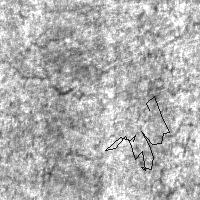crazing: (11, 33, 100, 103), (105, 96, 169, 170)
